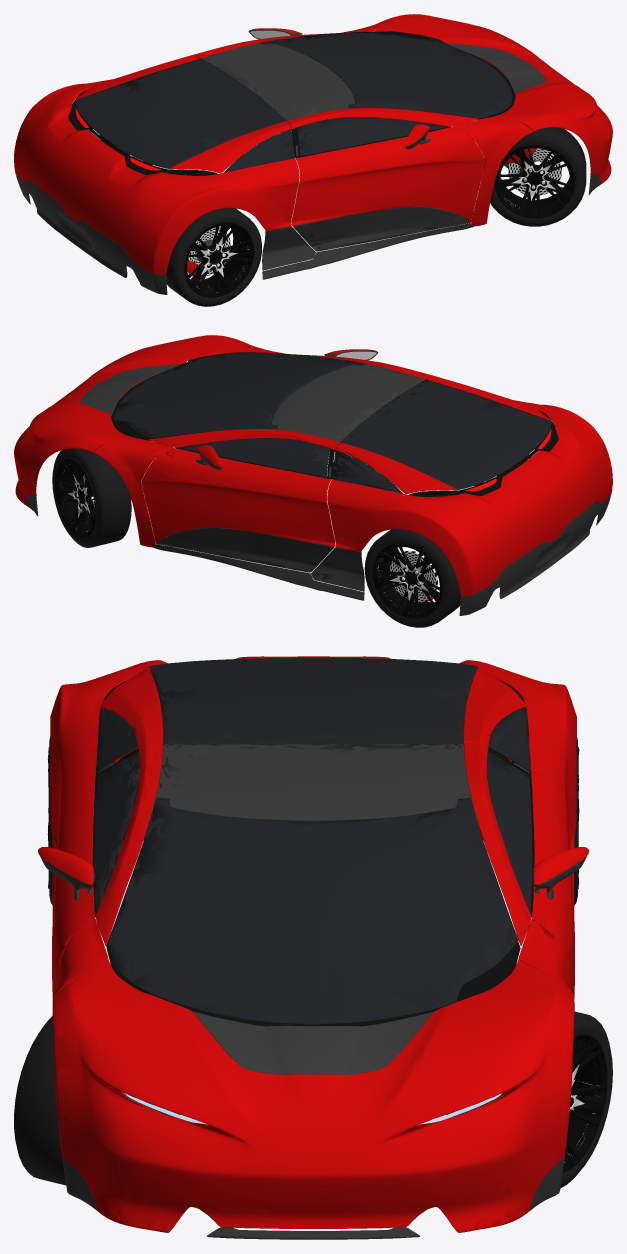
File: car.glb
3 views of the same model, one above another, from view 1: azimuth 30°, elevation 25°; view 2: azimuth 150°, elevation 25°; view 3: azimuth 270°, elevation 25° (orthographic). The views are drawn at different scales.
Parts seen in each view (by area): view 1: car, car_lite; view 2: car, car_lite; view 3: car, car_lite.
Boxes of the visible parts, x1,y1,x2,y2 form: car: (14,14,612,306); car_lite: (14,14,612,304); car: (14,335,612,627); car_lite: (14,335,612,625); car: (14,656,612,1239); car_lite: (38,656,612,1239).
Bounding box in the file's own units: 4.6 × 1.21 × 2.68.
16 materials, 1 textured.
